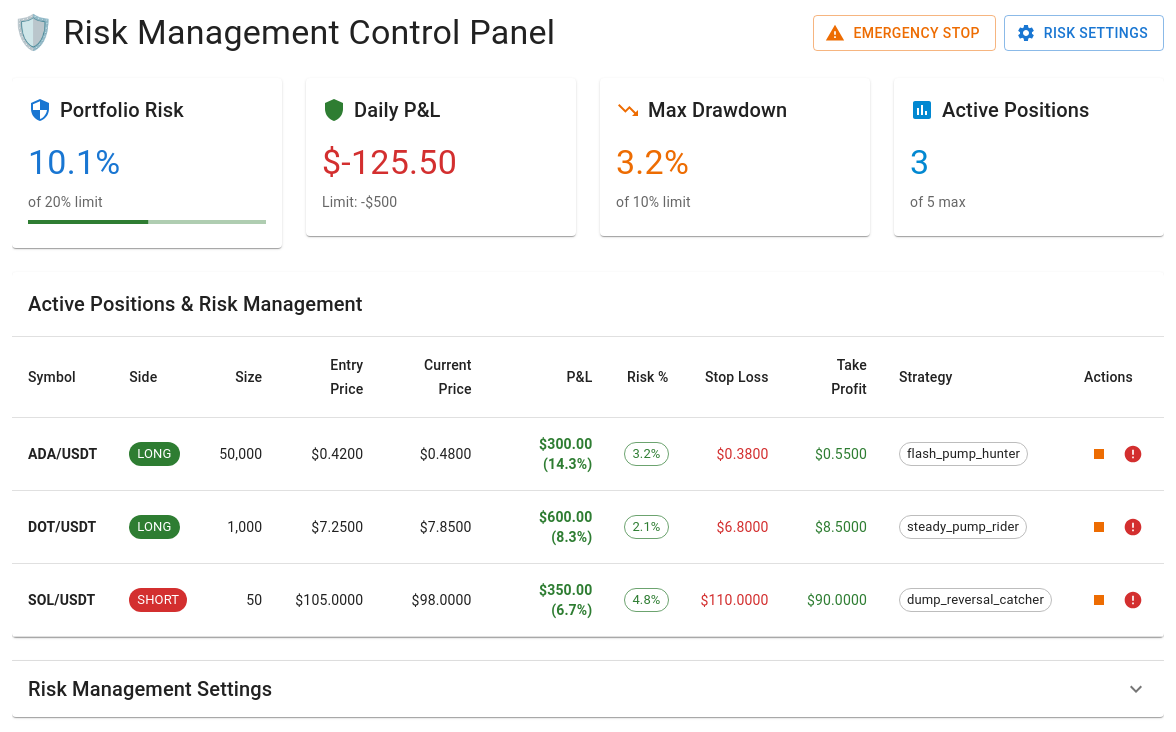
Test: RiskManagementPage › handles position close action
Click the button named "Close Position" in the row of "ADA/USDT".
click(1133, 454)  # box [1118,439,1148,469]
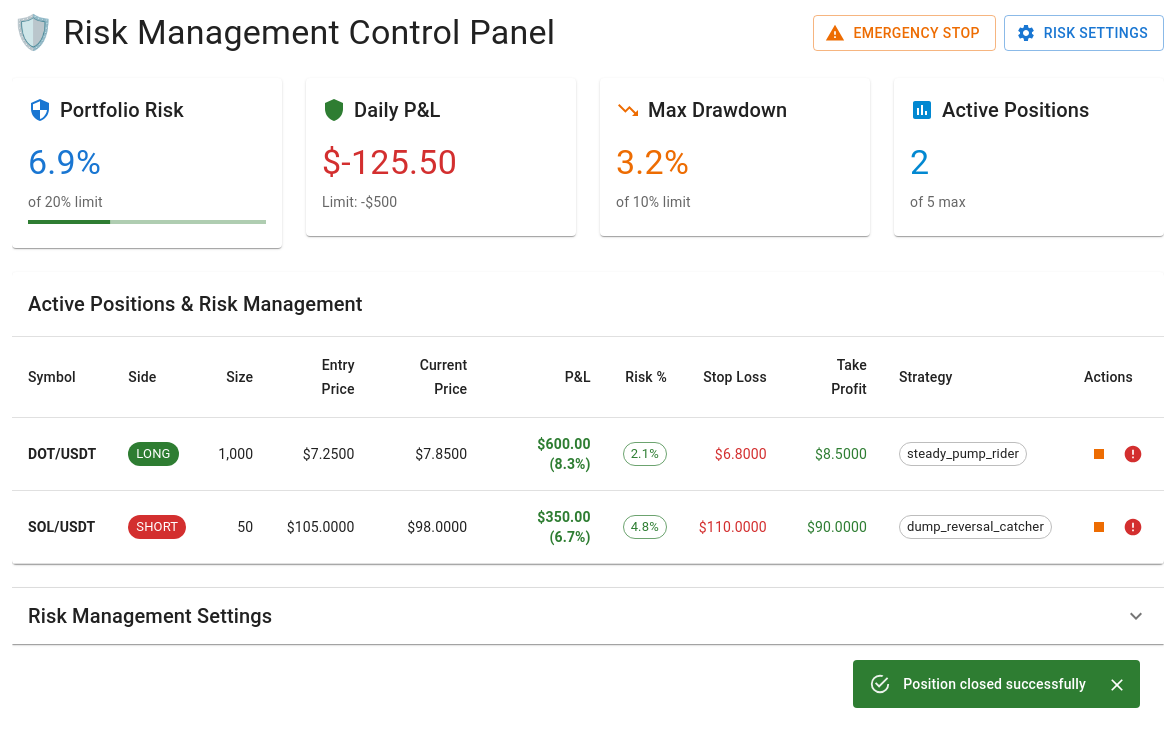
Now the text "Position closed successfully" is shown, box [903,676,1086,692]
